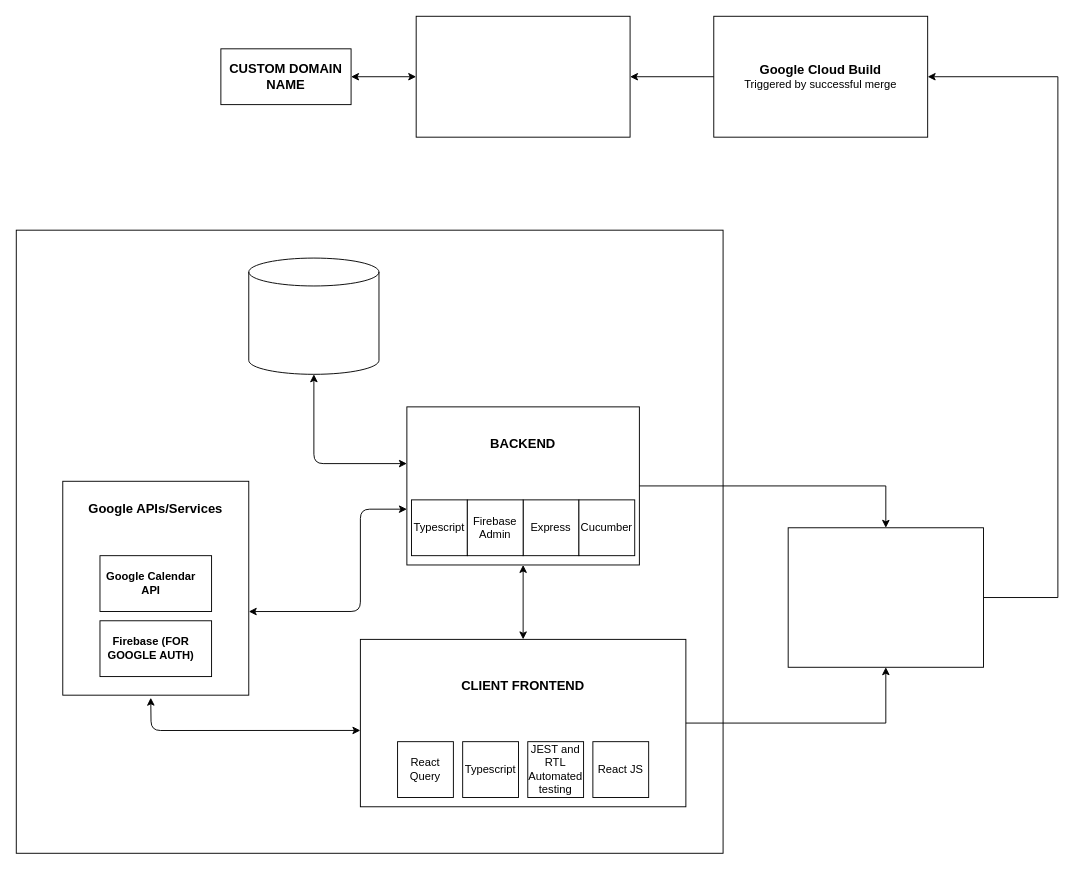
Some shapes in this 1082 by 870 pixel diagram are drawn without their labels. The shapes that lost their labels are listed below. From the top down, each one's centre as x and y in pixels, then its label:
At point 522,76: "APP ENGINE".
At point 313,315: "Externally-hosted MYSQL Server".
At point 885,597: "GITHUB with ACTIONS run Cucumber and JEST/RTL automated tests".
